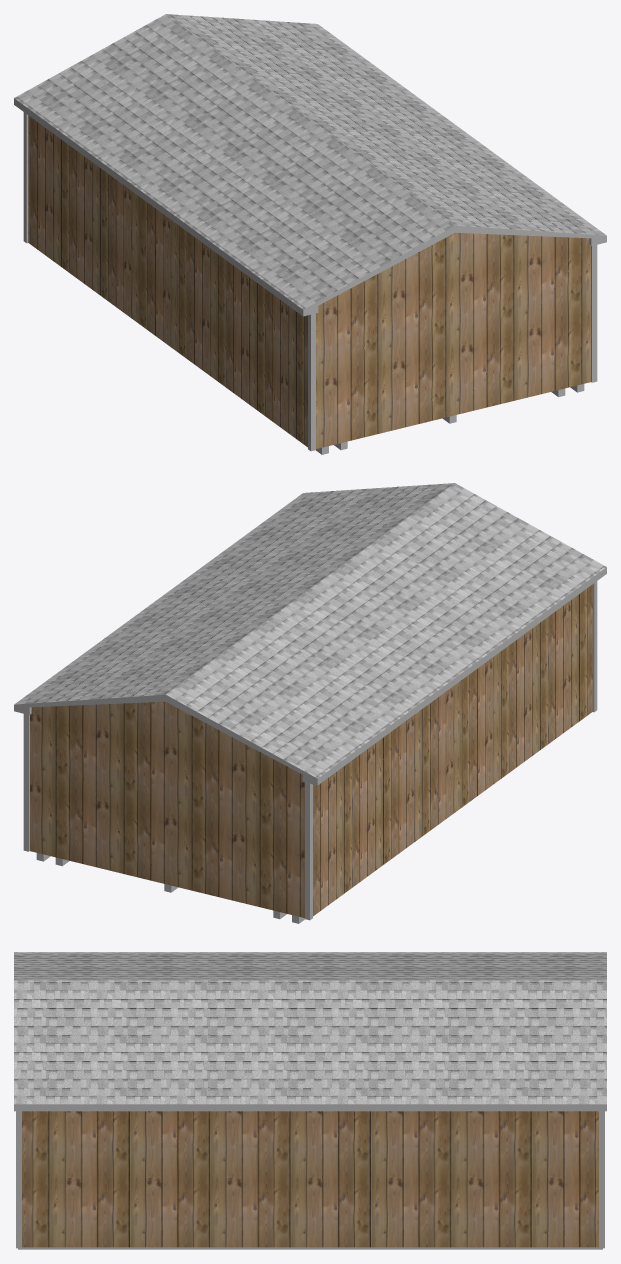
File: A-frame_14x24.obj
3 views of the same model, one above another, from view 1: azimuth 30°, elevation 25°; view 2: azimuth 150°, elevation 25°; view 3: azimuth 270°, elevation 25° (orthographic). The views are drawn at different scales.
Visible parts, largest first — view 1: Roof, Shed, Sides, Trim; view 2: Roof, Shed, Sides, Trim; view 3: Roof, Shed, Sides, Floor, Trim.
Part boxes in pixels (x1,y1,x2,y2): Roof: (14,14,606,309); Shed: (28,115,590,448); Sides: (14,98,606,316); Trim: (23,112,597,451); Roof: (14,483,606,778); Shed: (30,584,592,917); Sides: (14,567,606,785); Trim: (23,581,597,920); Roof: (14,952,606,1104); Shed: (22,1111,598,1247); Sides: (14,1104,606,1111); Floor: (18,1247,602,1249); Trim: (16,1111,604,1248).
Bounding box in the file's own units: 4.5 × 2.81 × 7.42.
